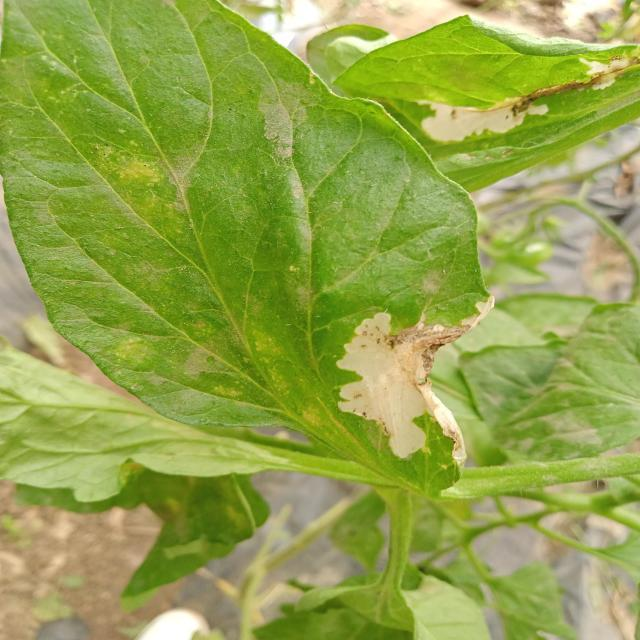Tuta absoluta: (328, 283, 493, 466), (415, 43, 640, 153)
